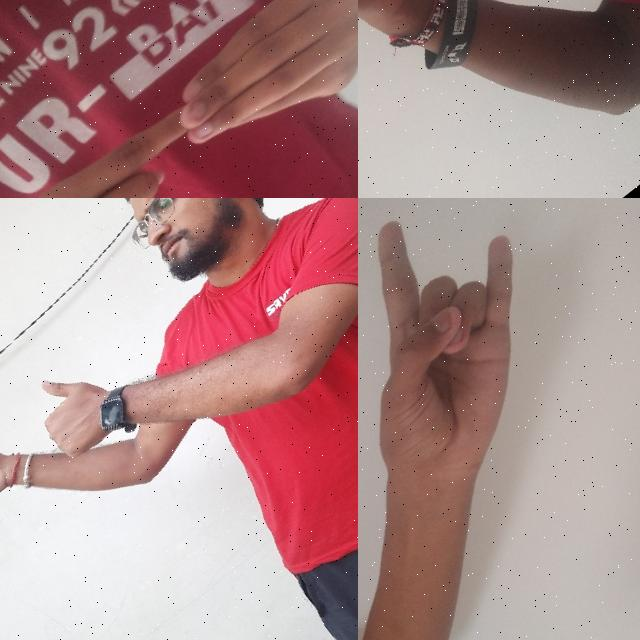Corna: (358, 198, 640, 575)
Five Fathers: (0, 0, 358, 198)
Okay: (358, 0, 516, 100)
Thumbs Up: (7, 342, 140, 477), (0, 414, 30, 531)
